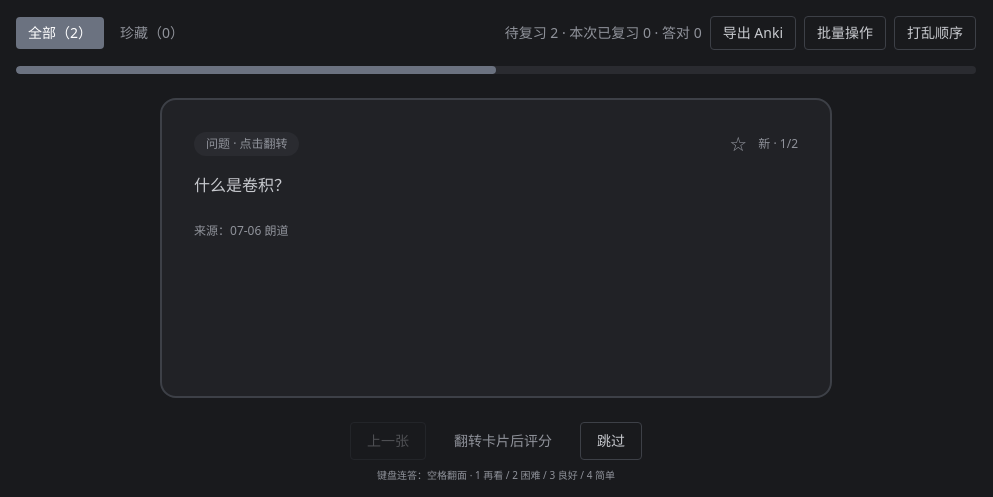
Test: FlashcardReviewView — review flow › flips on click and rates with the mouse, persisting SRS state
Click the text "什么是卷积？" at point(242, 185), box 194,174 -> 290,196
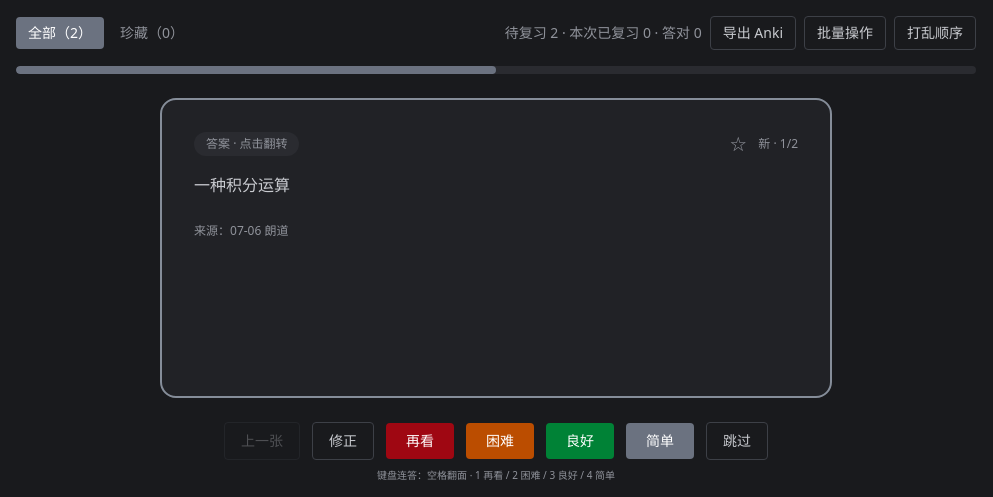
Expected: the text "一种积分运算" is shown, 194,174 -> 290,196
Click the button "良好" at point(580, 441), box 546,423 -> 614,459
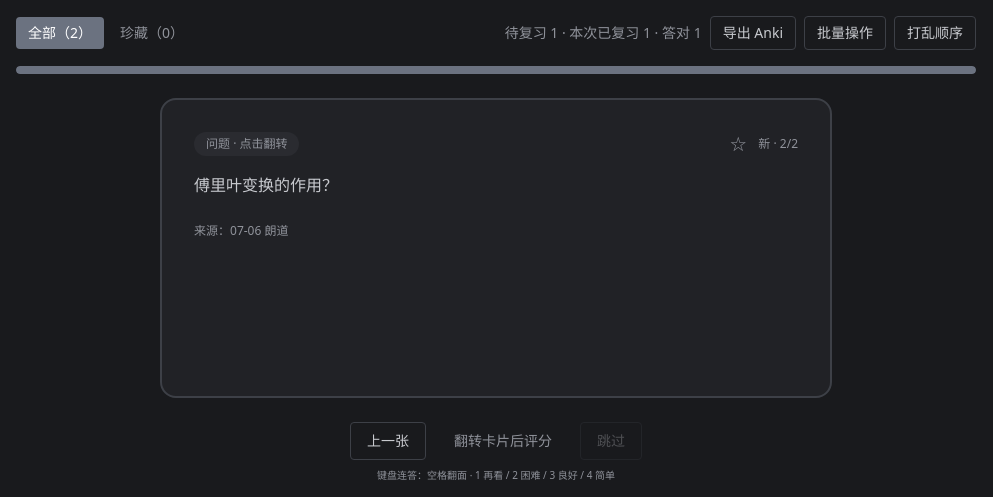
Expected: the text "傅里叶变换的作用？" is shown, 194,174 -> 338,196
Expected: the text "翻转卡片后评分" is shown, 454,431 -> 552,450
